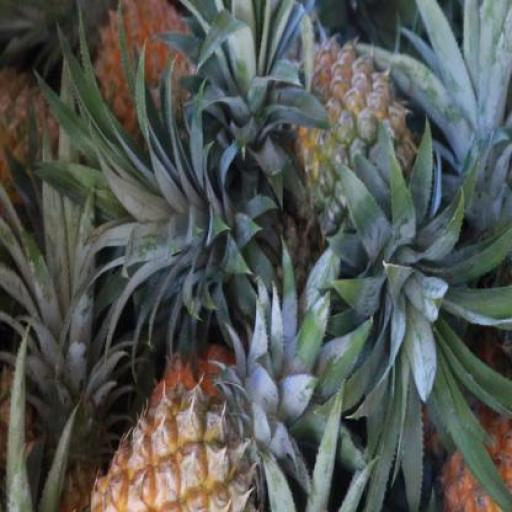------------------------------: (290, 39, 429, 249)
Pineapple - v8 v1: (88, 375, 270, 511)
